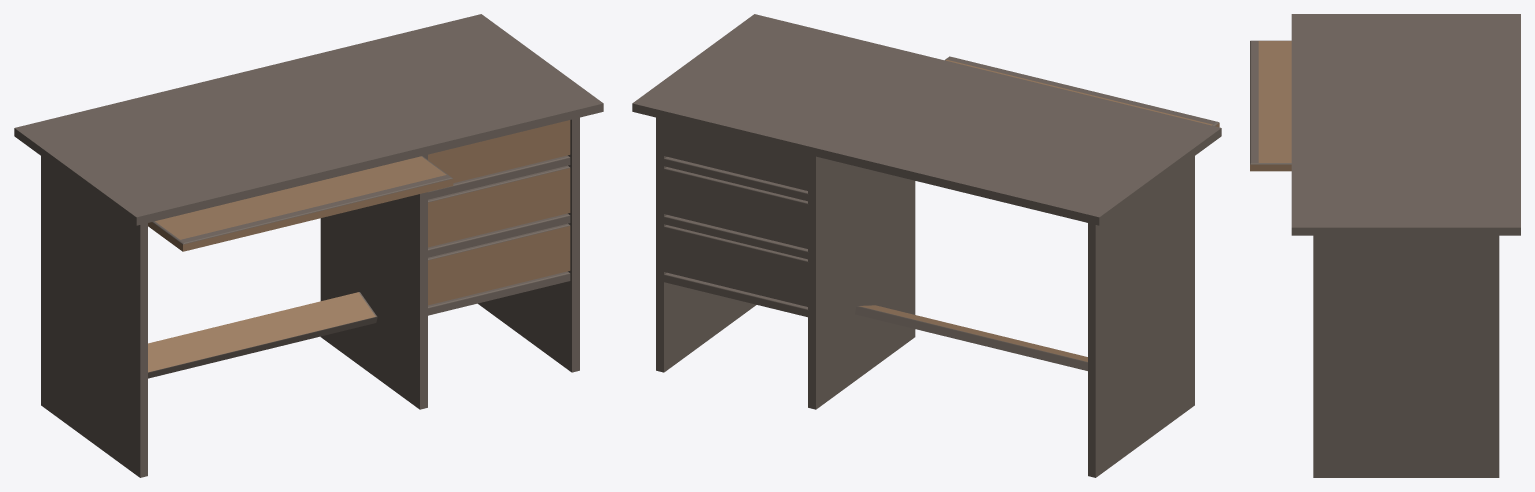
The model's file is colored desk for deskroom.fbx.
3 renders of one model, left to right at view 1: azimuth 30°, elevation 25°; view 2: azimuth 150°, elevation 25°; view 3: azimuth 270°, elevation 25°, orthographic. The views are drawn at different scales.
Visible parts, largest first — view 1: pCube9; view 2: pCube9; view 3: pCube9.
Boxes of the visible parts, x1,y1,x2,y2 form: pCube9: (14, 14, 603, 477); pCube9: (632, 14, 1221, 477); pCube9: (1250, 14, 1520, 477).
Size of the model in its own units: 19.32 by 10.78 by 10.34.
